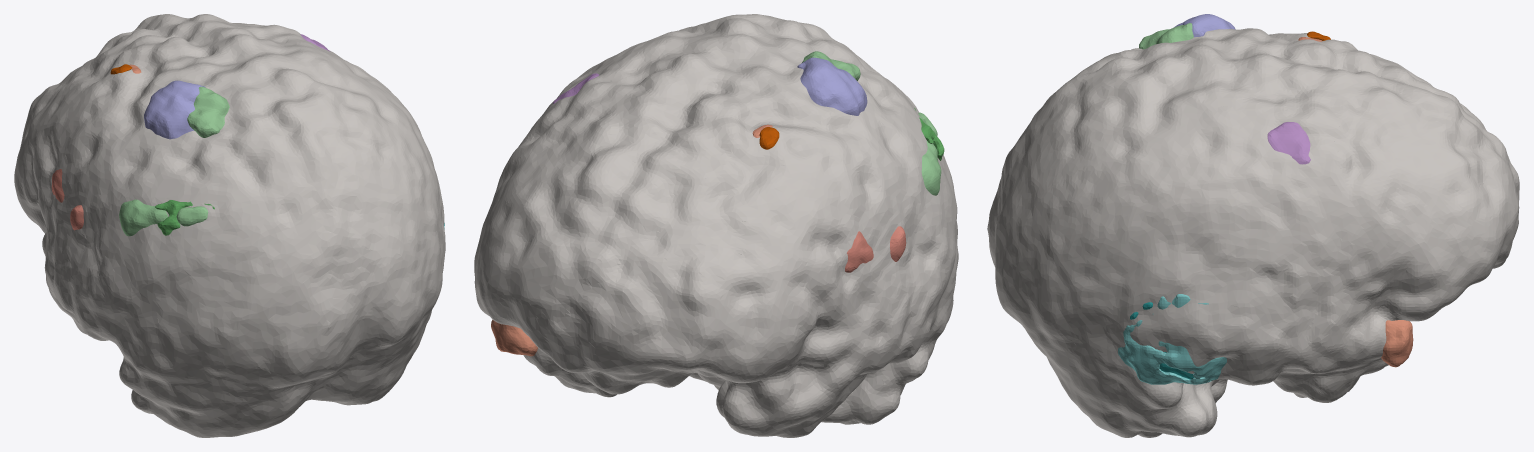
The model's file is case_library_gbm.glb.
3 renders of one model, left to right at view 1: azimuth 30°, elevation 25°; view 2: azimuth 150°, elevation 25°; view 3: azimuth 270°, elevation 25°, orthographic. The views are drawn at different scales.
Parts seen in each view (by area): view 1: Reference brain surface, GBM Left Occipital — enhancing tumour (sub-093), GBM Left Parietal — enhancing tumour (sub-026), GBM Left Occipital — necrotic core (sub-093), GBM Left Insular / peri-sylvian — enhancing tumour (sub-086); view 2: Reference brain surface, GBM Left Parietal — enhancing tumour (sub-026), GBM Left Occipital — enhancing tumour (sub-093), GBM Left Insular / peri-sylvian — enhancing tumour (sub-086), GBM Right Frontal — enhancing tumour (sub-031); view 3: Reference brain surface, GBM Right Occipito-temporal — enhancing tumour (sub-143), GBM Right Deep / thalamic-basal ganglia — enhancing tumour (, GBM Right Frontal — enhancing tumour (sub-031), GBM Left Occipital — enhancing tumour (sub-093), GBM Left Parietal — enhancing tumour (sub-026).
Part boxes in pixels (x1,y1,x2,y2): Reference brain surface: (14, 14, 445, 437); GBM Left Occipital — enhancing tumour (sub-093): (119, 86, 229, 236); GBM Left Parietal — enhancing tumour (sub-026): (144, 80, 205, 139); GBM Left Occipital — necrotic core (sub-093): (155, 200, 214, 235); GBM Left Insular / peri-sylvian — enhancing tumour (sub-086): (51, 169, 83, 230); Reference brain surface: (474, 14, 958, 437); GBM Left Parietal — enhancing tumour (sub-026): (797, 57, 867, 115); GBM Left Occipital — enhancing tumour (sub-093): (802, 51, 941, 195); GBM Left Insular / peri-sylvian — enhancing tumour (sub-086): (845, 226, 906, 272); GBM Right Frontal — enhancing tumour (sub-031): (491, 319, 537, 356); Reference brain surface: (987, 28, 1519, 437); GBM Right Occipito-temporal — enhancing tumour (sub-143): (1118, 294, 1226, 384); GBM Right Deep / thalamic-basal ganglia — enhancing tumour (: (1267, 122, 1310, 164); GBM Right Frontal — enhancing tumour (sub-031): (1381, 320, 1413, 367); GBM Left Occipital — enhancing tumour (sub-093): (1139, 23, 1193, 49); GBM Left Parietal — enhancing tumour (sub-026): (1174, 14, 1235, 37).
Bounding box in the file's own units: 137 × 130 × 171.
